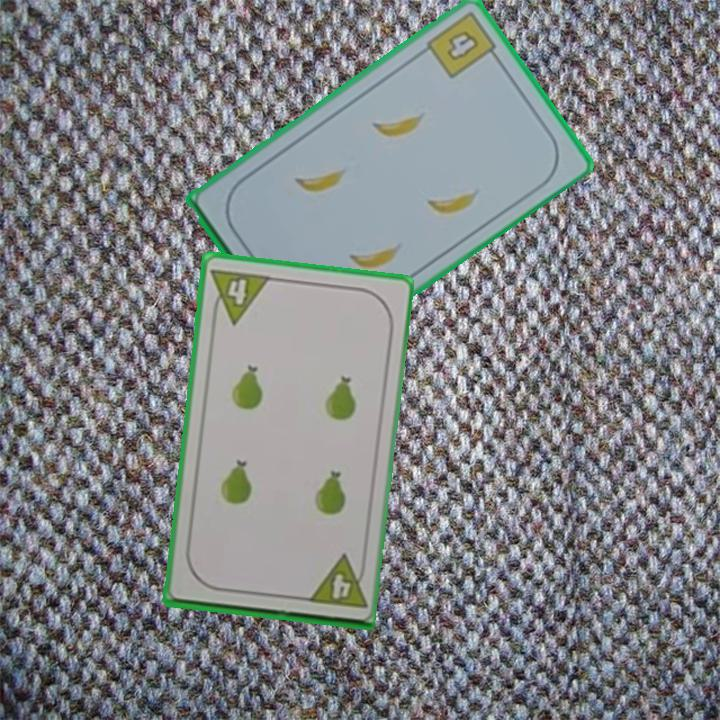4b: (422, 7, 503, 82)
4p: (207, 264, 273, 327), (303, 552, 369, 612)
